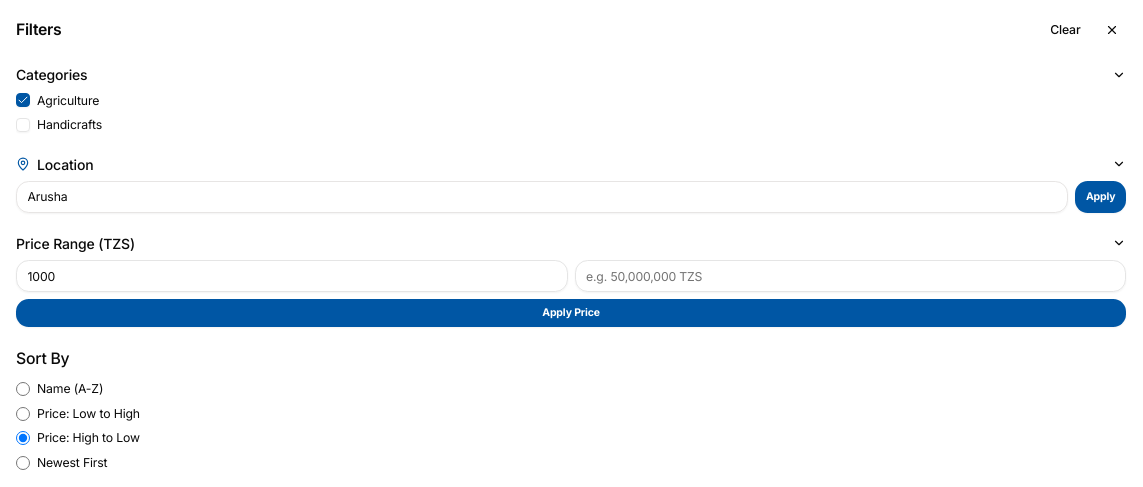
Test: SearchFiltersPopover clearing filters › resets every control back to its default
This screenshot has width=1143, height=487.
Click the button "Clear" at (1065, 30), box [1040,16,1091,44]
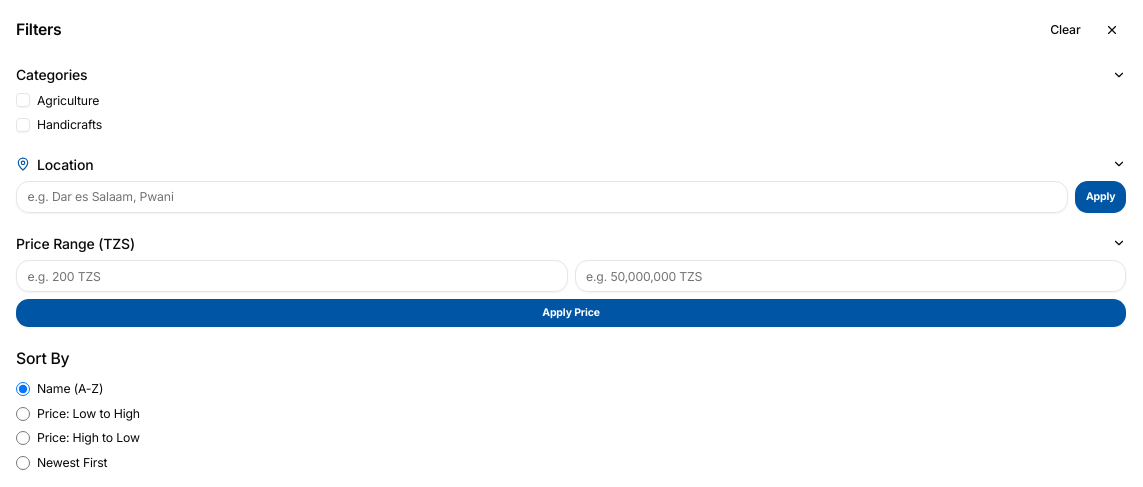
Expected: the checkbox named "Agriculture" next to "Agriculture" is not checked, [16,93,30,107]
Expected: the field with placeholder "e.g. Dar es Salaam, Pwani" is empty, [16,181,1068,213]
Expected: the number field with placeholder "e.g. 200 TZS" is not empty, [16,260,568,292]
